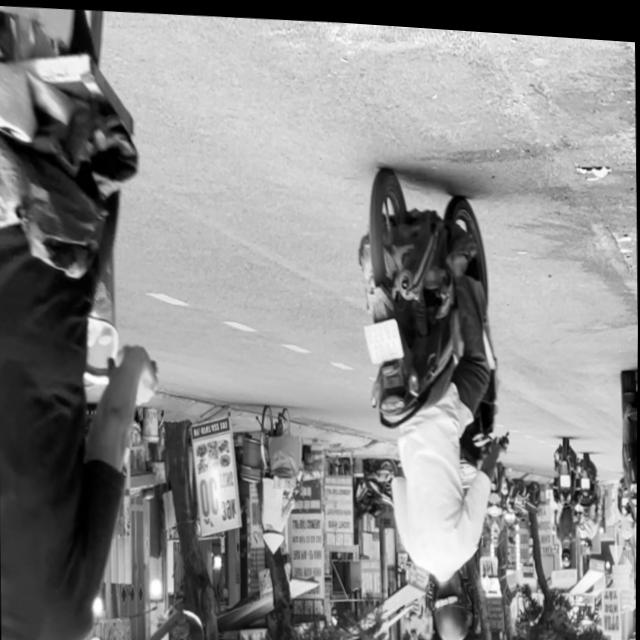helmet: (430, 564, 472, 640)
licenseplate: (351, 156, 513, 640)
nohelmet: (364, 312, 405, 360)
